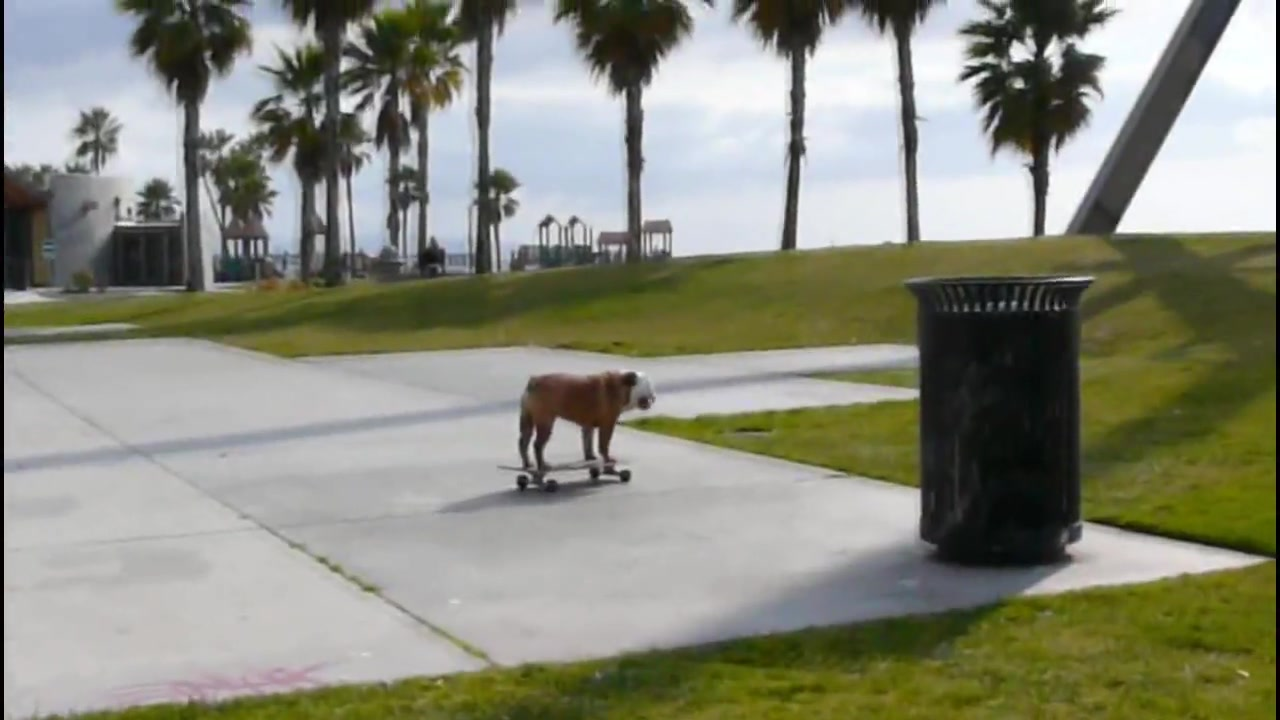dog: (515, 366, 658, 468)
